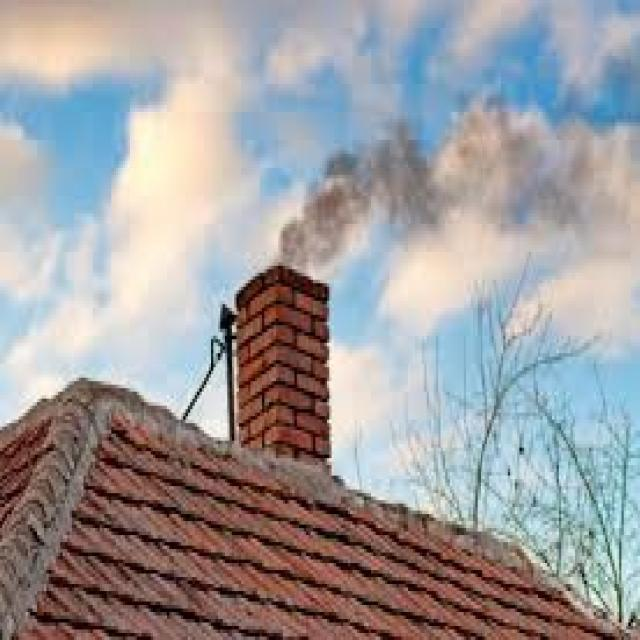Smoke: (278, 74, 640, 280)
